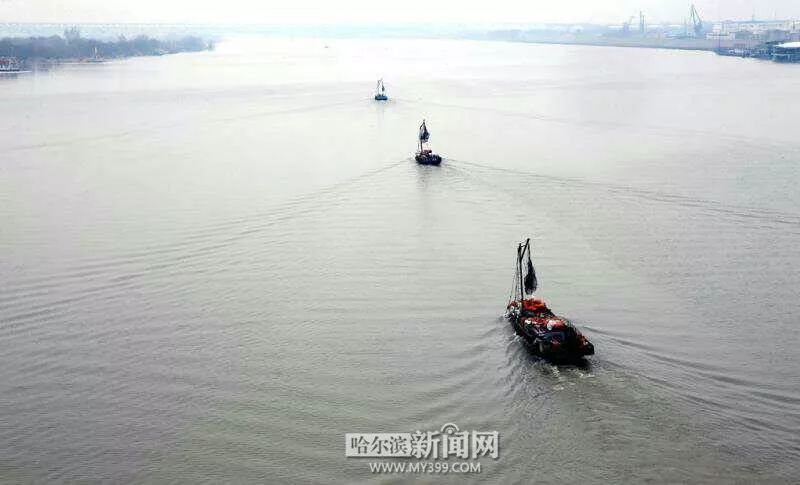boat: (495, 237, 604, 368)
